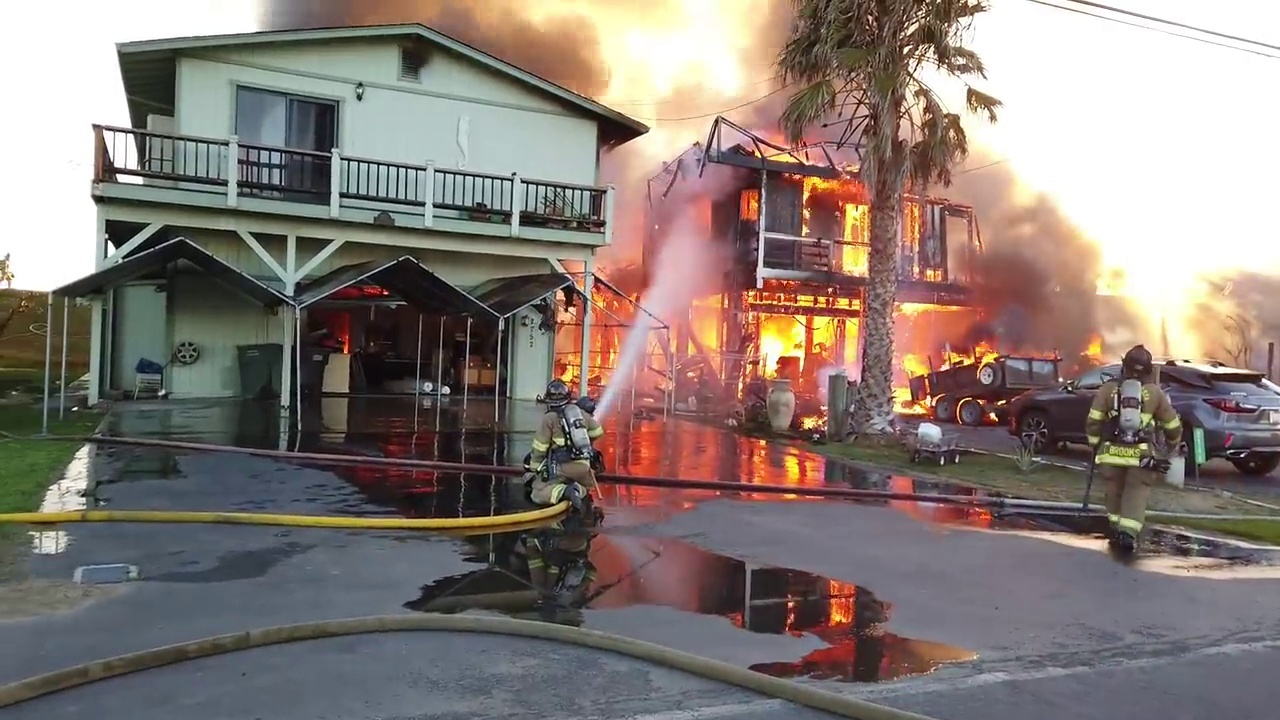fire: (889, 252, 999, 416), (603, 1, 745, 93), (756, 309, 857, 375), (839, 199, 872, 274), (737, 183, 761, 221), (916, 257, 949, 283), (1086, 330, 1109, 363), (0, 254, 13, 290), (341, 332, 349, 356)
smoke: (578, 1, 745, 265), (944, 152, 1117, 344), (738, 0, 810, 125)
